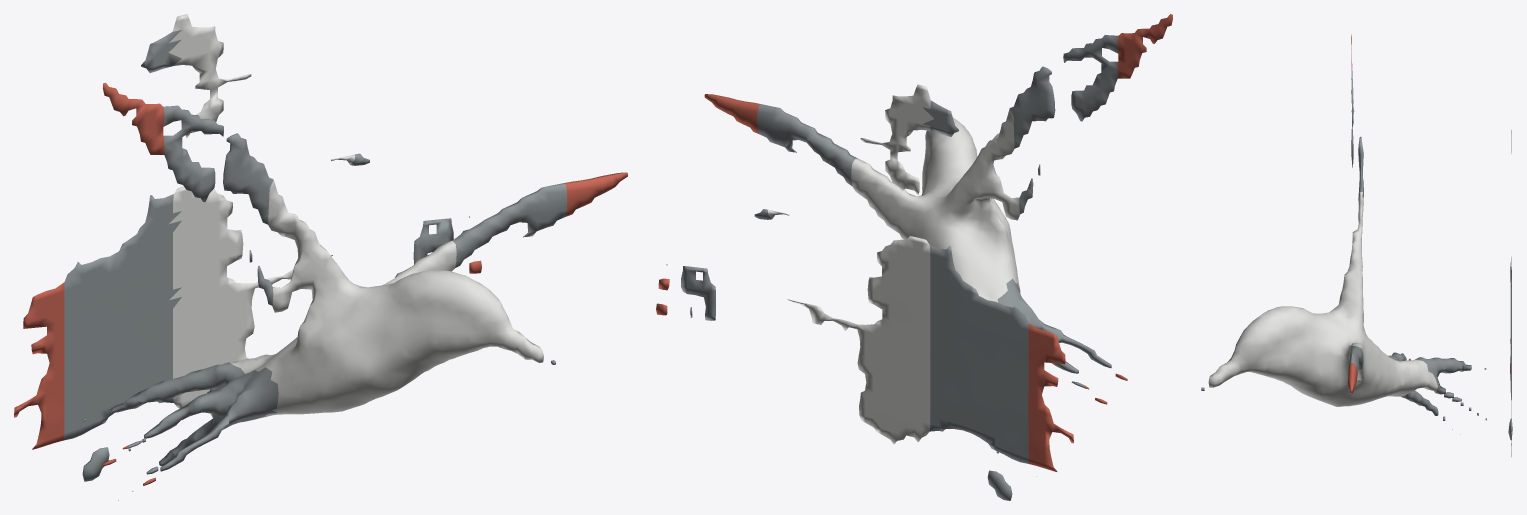
File: gliding_05.glb
3 views of the same model, side by side, from view 1: azimuth 30°, elevation 25°; view 2: azimuth 150°, elevation 25°; view 3: azimuth 270°, elevation 25° (orthographic). The views are drawn at different scales.
Visible parts, largest first — view 1: common_tern_voxel_remeshed_gliding_05; view 2: common_tern_voxel_remeshed_gliding_05; view 3: common_tern_voxel_remeshed_gliding_05.
Boxes of the visible parts, bbox=[...] form: common_tern_voxel_remeshed_gliding_05: bbox=[14, 14, 627, 500]; common_tern_voxel_remeshed_gliding_05: bbox=[656, 14, 1172, 500]; common_tern_voxel_remeshed_gliding_05: bbox=[1201, 34, 1512, 456].
Bounding box in the file's own units: 1.13 × 1.02 × 0.7324.
